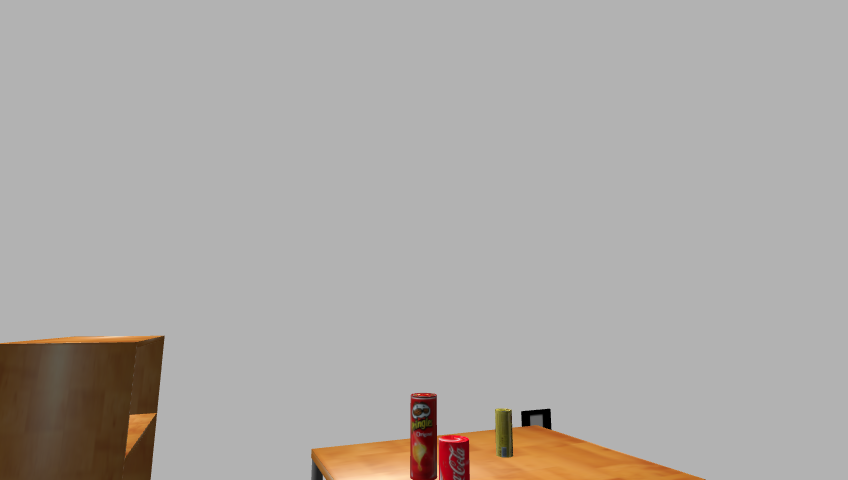aruco marker: (516, 407, 555, 433)
biscuits pack: (494, 408, 514, 459)
bookshelf: (0, 335, 172, 480)
coke can: (441, 436, 470, 480)
dinner table: (297, 427, 738, 480)
pringles can: (407, 392, 440, 480)
